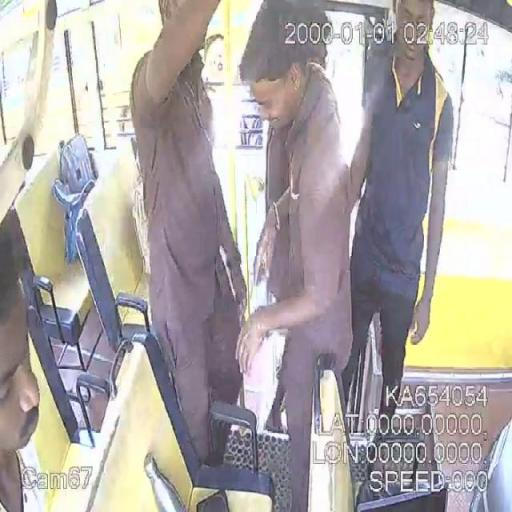persona: (236, 1, 355, 511), (128, 0, 250, 466), (340, 0, 456, 435), (0, 206, 44, 511)
